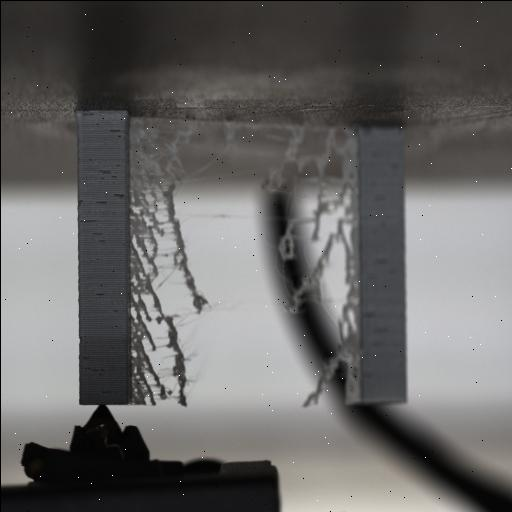stringing: (124, 120, 224, 408), (268, 124, 364, 408)
